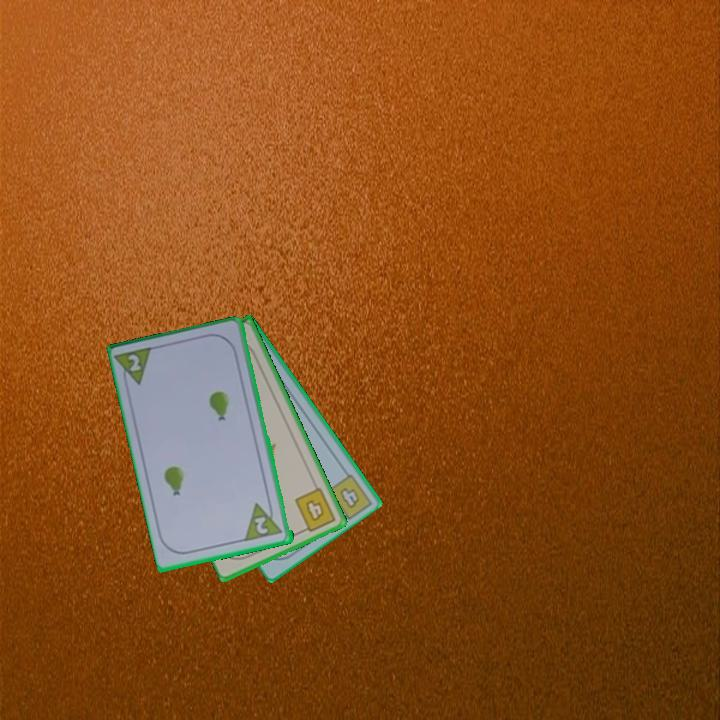2p: (242, 497, 286, 544), (125, 350, 144, 375)
4b: (291, 484, 339, 536), (336, 484, 363, 512)
